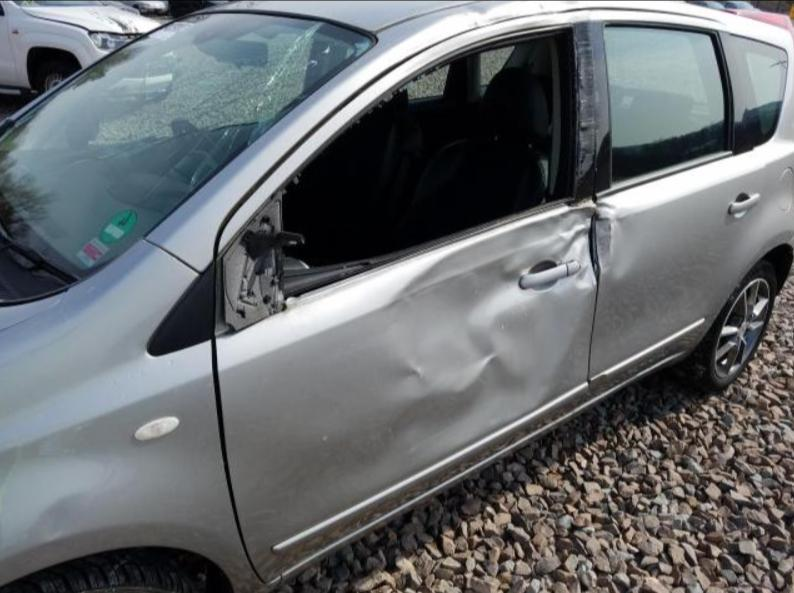Dent: (360, 191, 623, 476), (435, 0, 590, 40)
Scratch: (573, 20, 599, 204)
broken_mirror: (220, 191, 284, 335)
cracked_glass: (62, 23, 328, 202)
